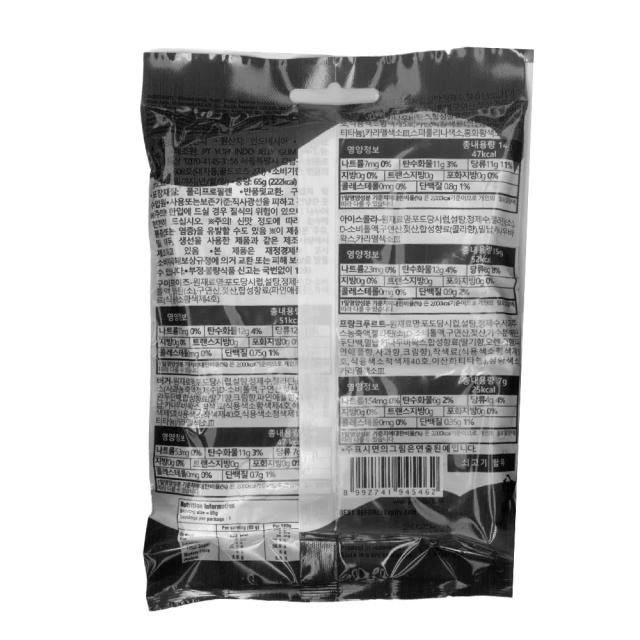Nutrition Label: (337, 131, 530, 218)
